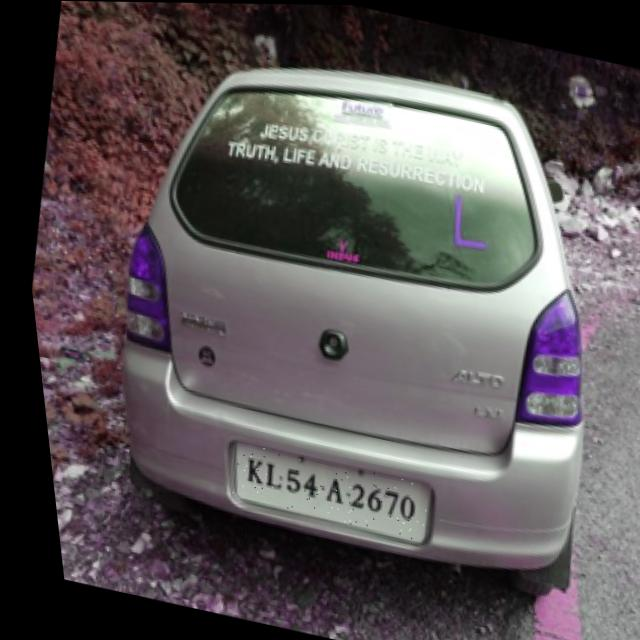license_plate: (213, 439, 423, 540)
